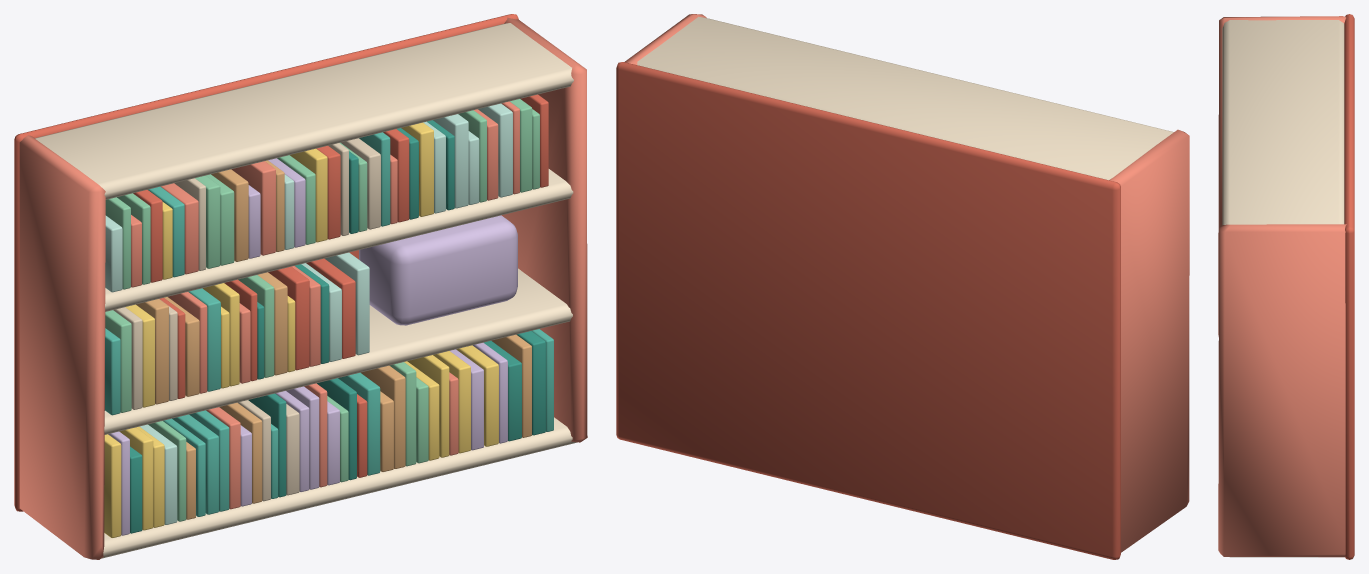
The model's file is bookshelf_b.glb.
The picture shows the model from 3 angles, left to right: view 1: azimuth 30°, elevation 25°; view 2: azimuth 150°, elevation 25°; view 3: azimuth 270°, elevation 25°; orthographic projection. The views are drawn at different scales.
Visible parts, largest first — view 1: body; view 2: body; view 3: body.
Boxes of the visible parts, x1,y1,x2,y2 form: body: [14, 14, 587, 559]; body: [616, 14, 1189, 559]; body: [1218, 14, 1354, 559].
Size of the model in its own units: 1.2 by 0.86 by 0.3194.
